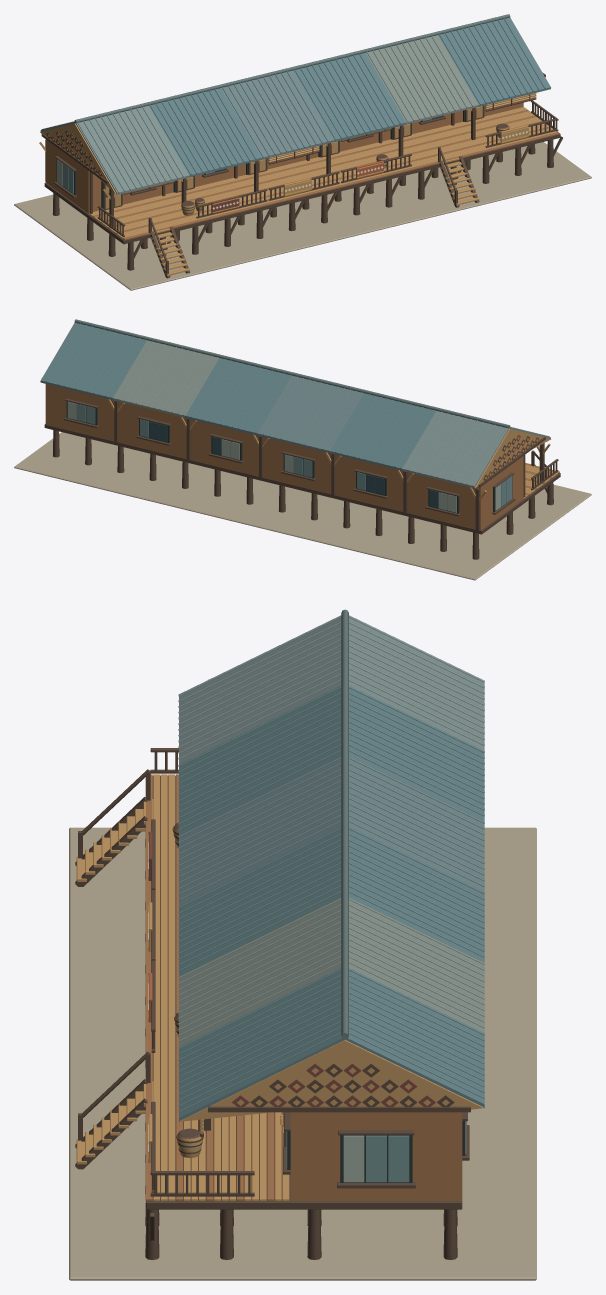
3 renders of one model, top to bottom at view 1: azimuth 30°, elevation 25°; view 2: azimuth 150°, elevation 25°; view 3: azimuth 270°, elevation 25°, orthographic. The views are drawn at different scales.
Visible parts, largest first — view 1: Continuous zinc roof, Bilik rooms, Shared ruai and tanju, Partition joinery, Balcony joinery, Entrance joinery, Casements and sills; view 2: Bilik rooms, Continuous zinc roof, Shared ruai and tanju, Casements and sills, Partition joinery, Balcony joinery; view 3: Continuous zinc roof, Bilik rooms, Shared ruai and tanju, Partition joinery, Casements and sills, Balcony joinery.
Part boxes in pixels (x1,y1,x2,y2): Continuous zinc roof: (40, 14, 550, 194); Bilik rooms: (14, 102, 591, 290); Shared ruai and tanju: (44, 107, 562, 278); Partition joinery: (39, 19, 551, 227); Balcony joinery: (97, 100, 558, 237); Entrance joinery: (101, 105, 484, 210); Casements and sills: (54, 115, 445, 197); Bilik rooms: (14, 384, 591, 580); Continuous zinc roof: (40, 319, 550, 488); Shared ruai and tanju: (44, 424, 560, 559); Casements and sills: (64, 398, 515, 516); Partition joinery: (40, 324, 551, 530); Balcony joinery: (531, 459, 558, 490); Continuous zinc roof: (178, 609, 484, 1121); Bilik rooms: (69, 827, 536, 1280); Shared ruai and tanju: (75, 769, 462, 1259); Partition joinery: (148, 679, 483, 1163); Casements and sills: (283, 1112, 469, 1188); Balcony joinery: (150, 748, 254, 1196).
Size of the model in its own units: 28.6 by 6.94 by 12.55.
